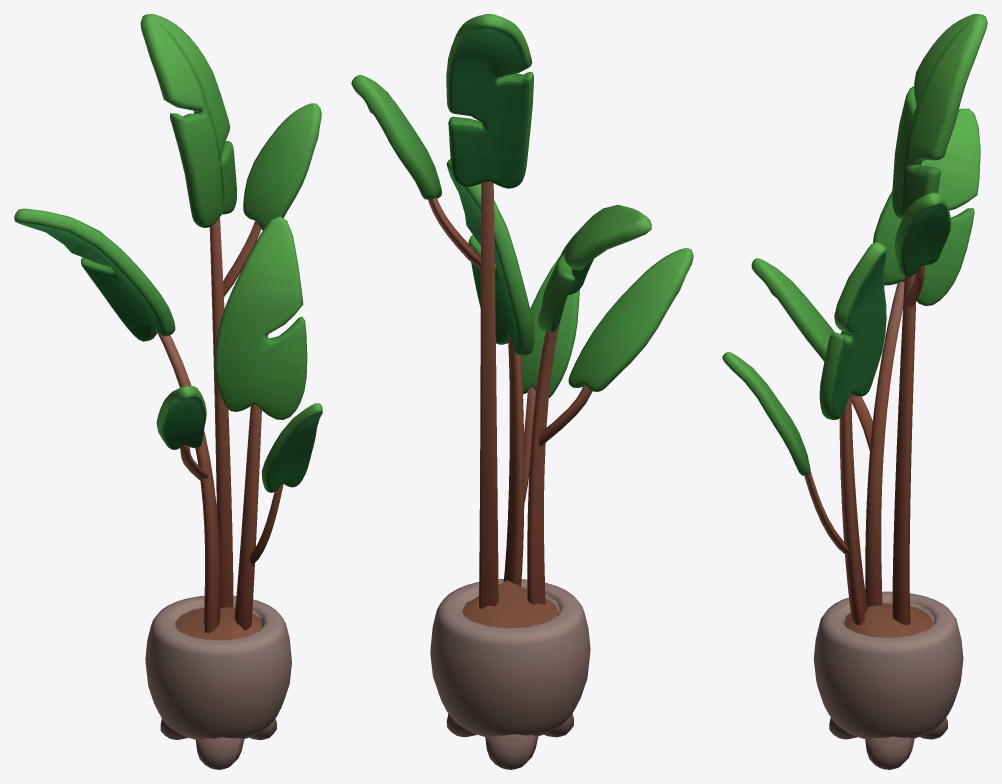
Rendered from Plants_19.glb.
3 renders of one model, left to right at view 1: azimuth 30°, elevation 25°; view 2: azimuth 150°, elevation 25°; view 3: azimuth 270°, elevation 25°, orthographic. The views are drawn at different scales.
Visible parts, largest first — view 1: Plants_19; view 2: Plants_19; view 3: Plants_19.
Boxes of the visible parts, x1=… form: Plants_19: x1=14, y1=14, x2=322, y2=769; Plants_19: x1=351, y1=14, x2=693, y2=769; Plants_19: x1=722, y1=14, x2=987, y2=769.
Bounding box in the file's own units: 1.23 × 2.88 × 0.961.
Materials: 1 (1 with a texture image).
